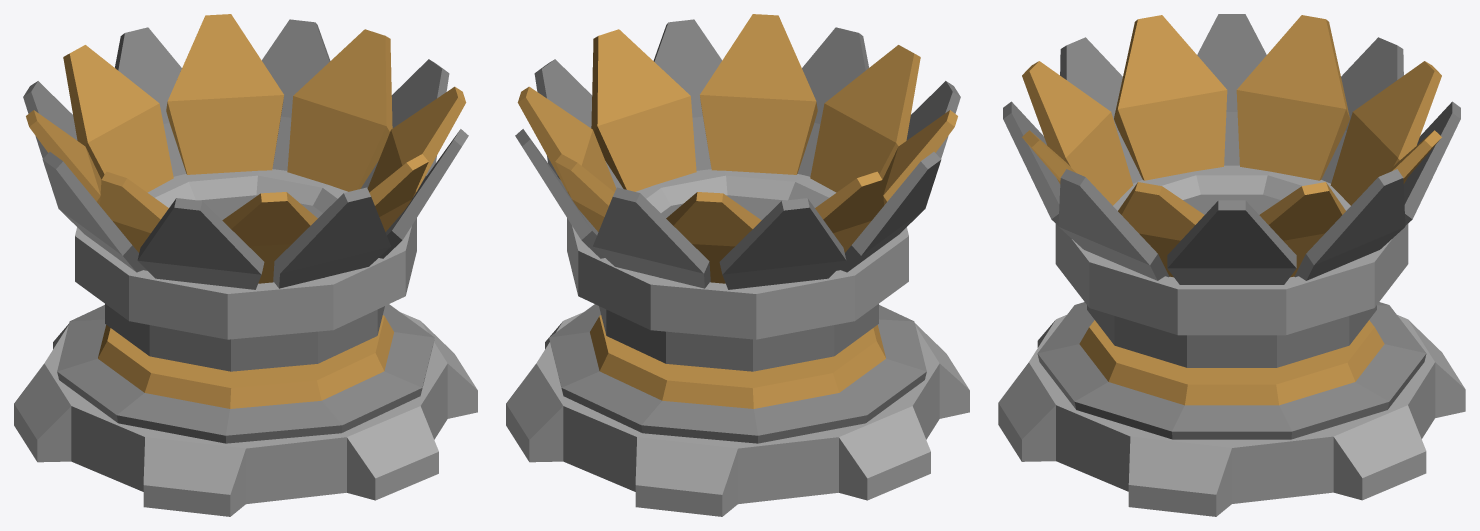
Rendered from Teleporter_1.glb.
The picture shows the model from 3 angles, left to right: view 1: azimuth 30°, elevation 25°; view 2: azimuth 150°, elevation 25°; view 3: azimuth 270°, elevation 25°; orthographic projection.
Parts seen in each view (by area): view 1: Props_Teleporter_1; view 2: Props_Teleporter_1; view 3: Props_Teleporter_1.
Part boxes in pixels (<box>): Props_Teleporter_1: <box>14,14,477,516</box>; Props_Teleporter_1: <box>506,14,969,516</box>; Props_Teleporter_1: <box>998,14,1465,516</box>.
Bounding box in the file's own units: 1.21 × 0.9045 × 1.21.
